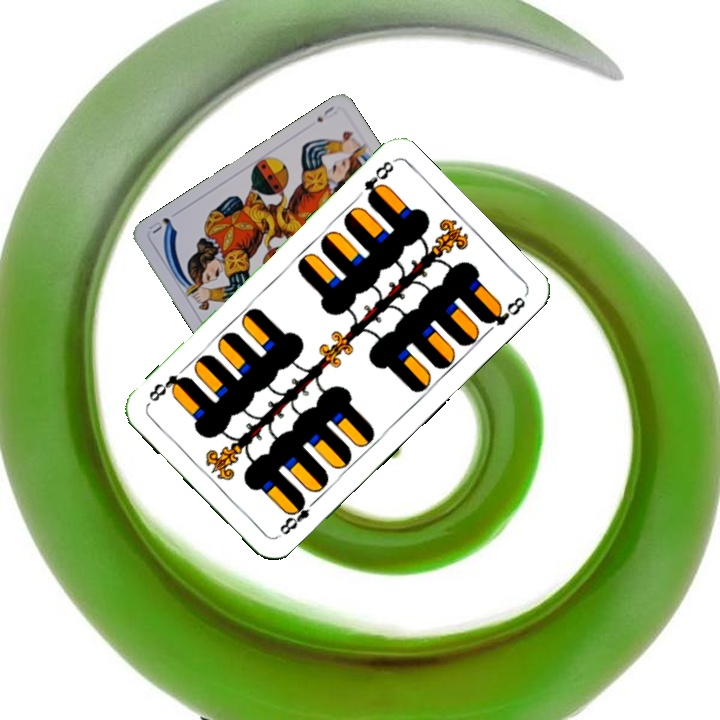E8: (350, 156, 397, 205), (275, 494, 321, 540)
SU: (312, 102, 340, 125)
